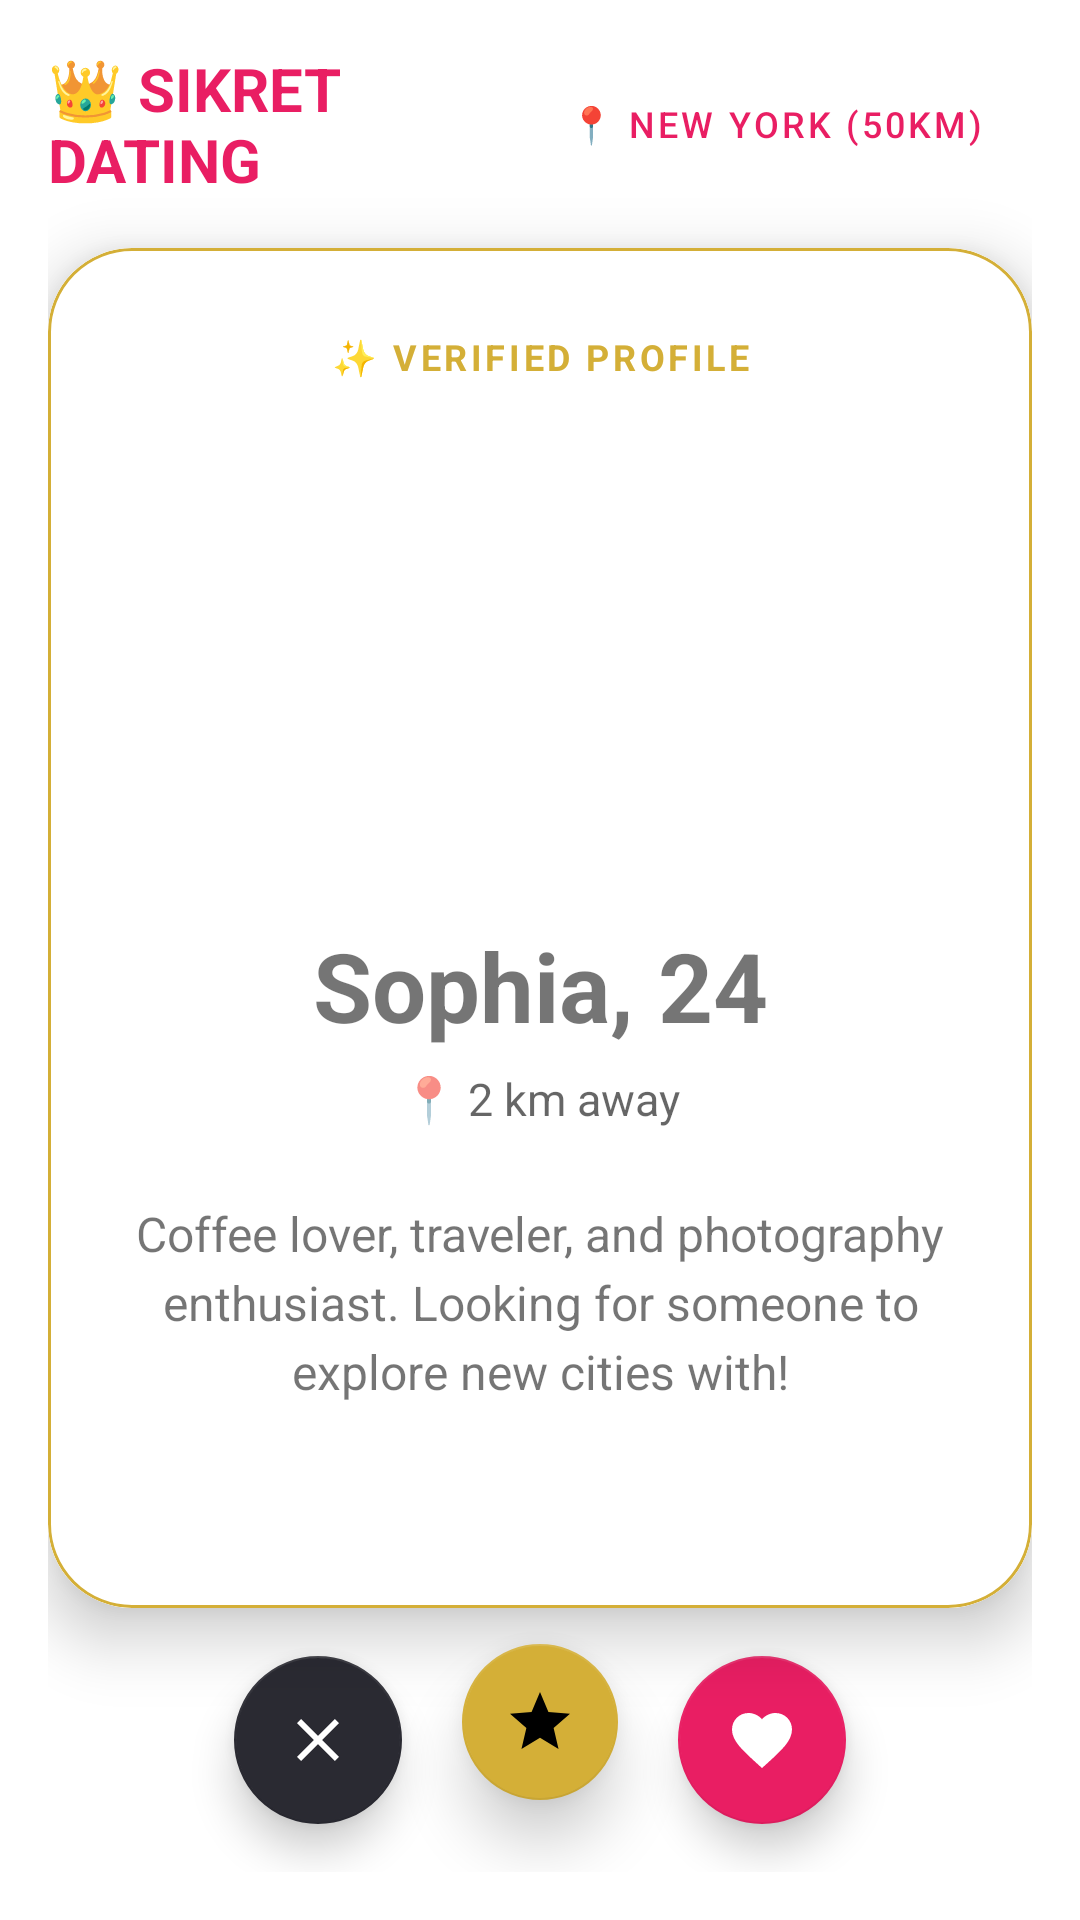

Where to tap for icons on this 1080 x 1920 app screen, as [x,y]:
like: [762,1740]
pass: [318,1740]
star: [540,1722]
